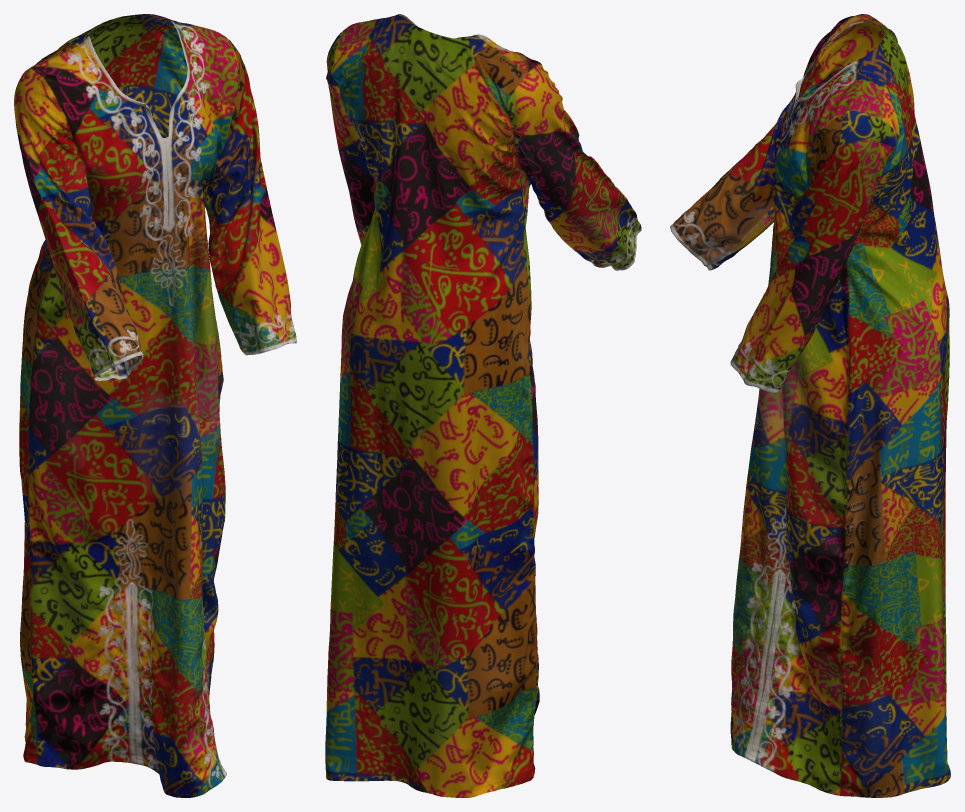
Rendered from calligraphy-dress.glb.
3 renders of one model, left to right at view 1: azimuth 30°, elevation 25°; view 2: azimuth 150°, elevation 25°; view 3: azimuth 270°, elevation 25°, orthographic. The views are drawn at different scales.
Parts seen in each view (by area): view 1: Object_2; view 2: Object_2; view 3: Object_2.
Part boxes in pixels (x1,y1,x2,y2): Object_2: (14,14,296,797); Object_2: (325,14,641,797); Object_2: (670,14,950,797).
Bounding box in the file's own units: 0.462 × 1.42 × 0.4984.
1 material, 1 textured.
